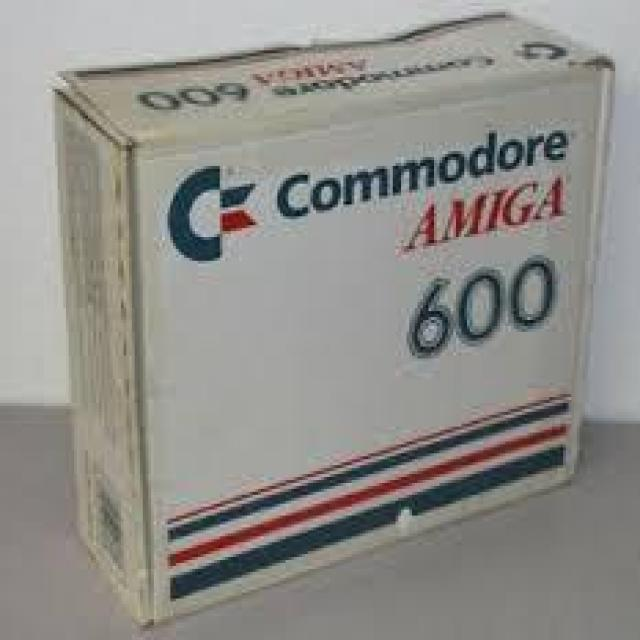box: (52, 12, 615, 628)
